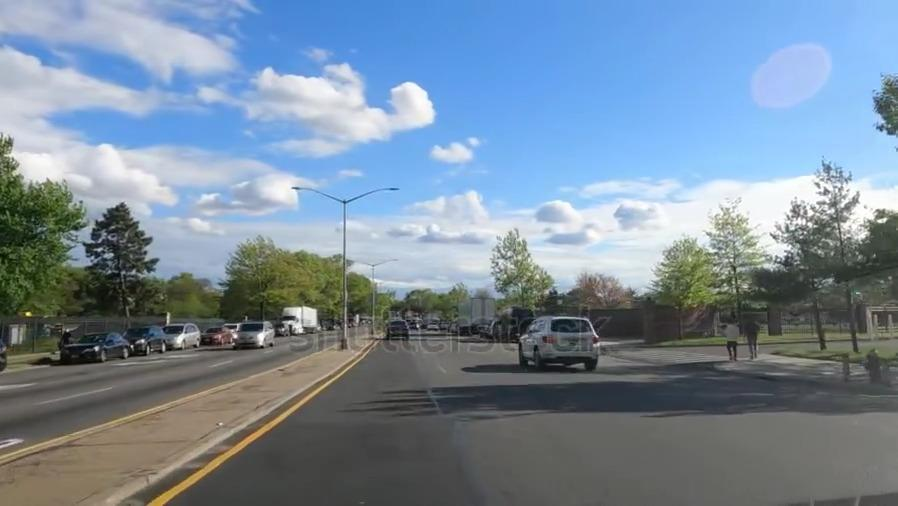car: (518, 311, 604, 364), (61, 331, 133, 363), (236, 321, 273, 347), (161, 325, 198, 348), (130, 328, 160, 350), (389, 316, 407, 340), (204, 327, 230, 343)
person: (713, 316, 743, 364), (746, 317, 763, 362), (51, 327, 69, 343)
truck: (274, 308, 319, 331)
